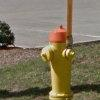Hydrant: (38, 21, 85, 100)
